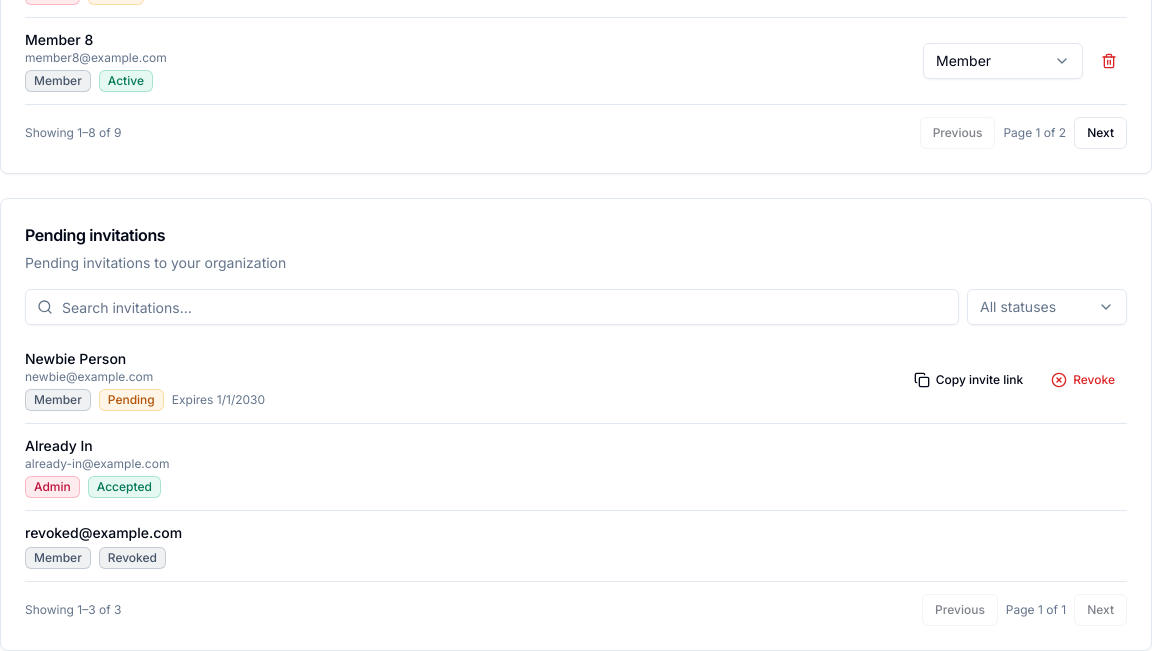
MembersSettingsPage — pagination + filters › filters invitations by status and shows the invited role
(page scrolled)
Expected: the text "newbie@example.com" is shown, x1=25 y1=369 x2=153 y2=384
Expected: the text "Admin" next to "Accepted" is shown, x1=34 y1=479 x2=71 y2=494
Step 1. Click the dropdown labelled "All statuses" → (1047, 307), box x1=967 y1=289 x2=1127 y2=325
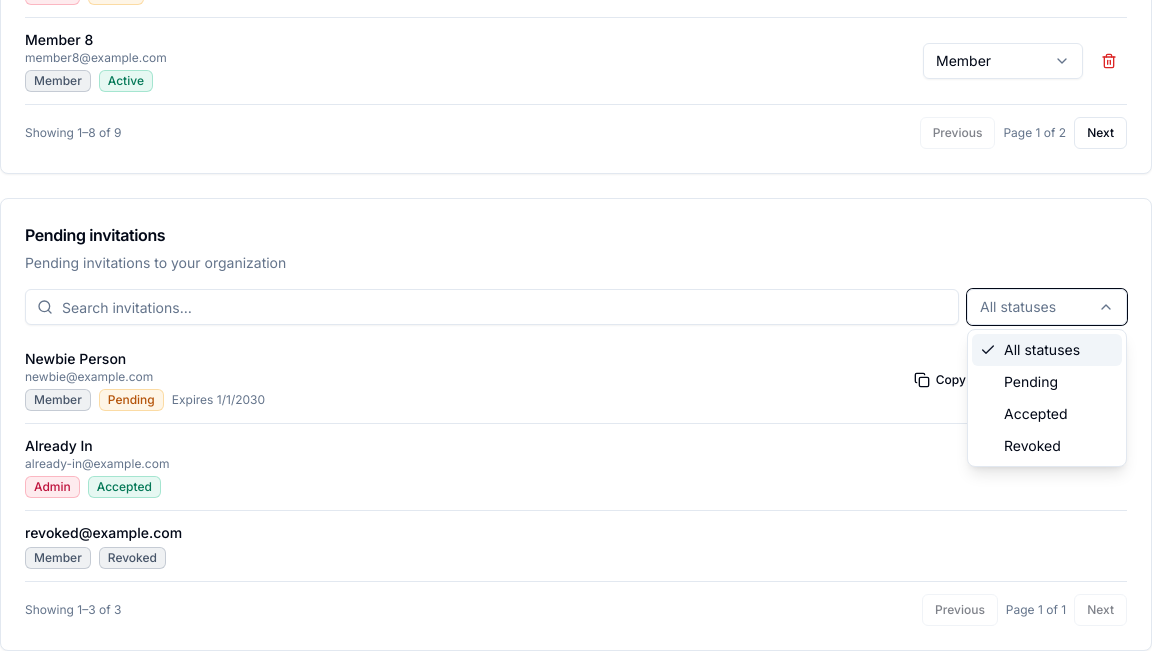
Step 2. Click the option "Pending" → (1047, 382), box x1=972 y1=366 x2=1122 y2=398
(page scrolled)
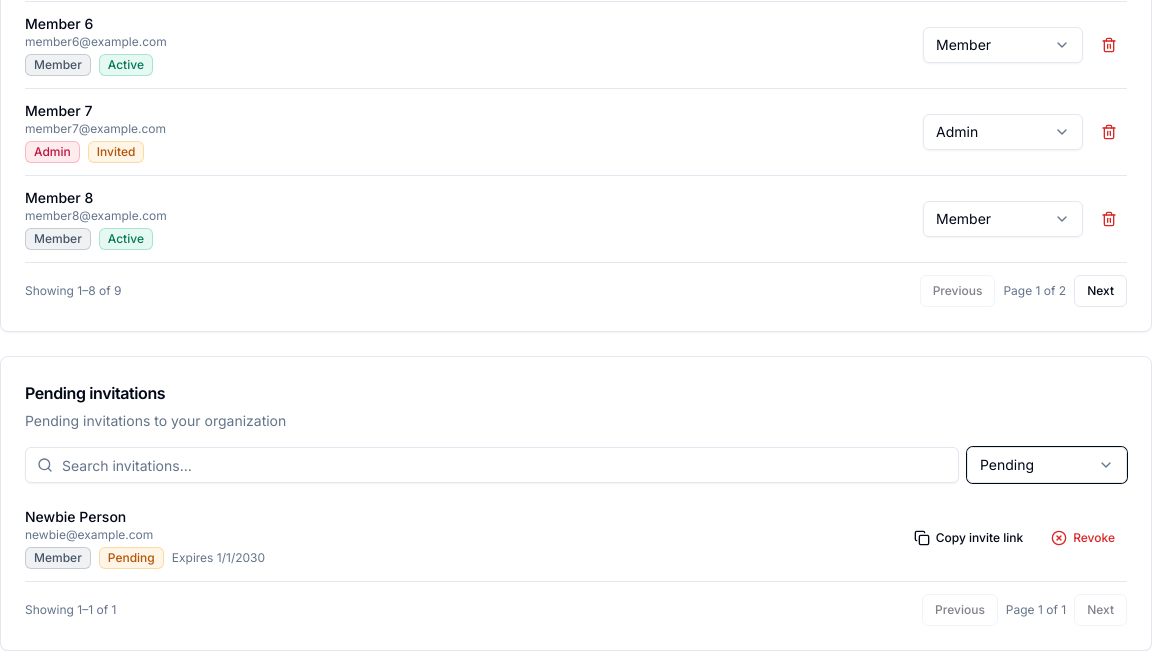
Expected: the text "newbie@example.com" is shown, x1=25 y1=527 x2=153 y2=542
Now the text "already-in@example.com" is gone
Now the text "revoked@example.com" is gone
